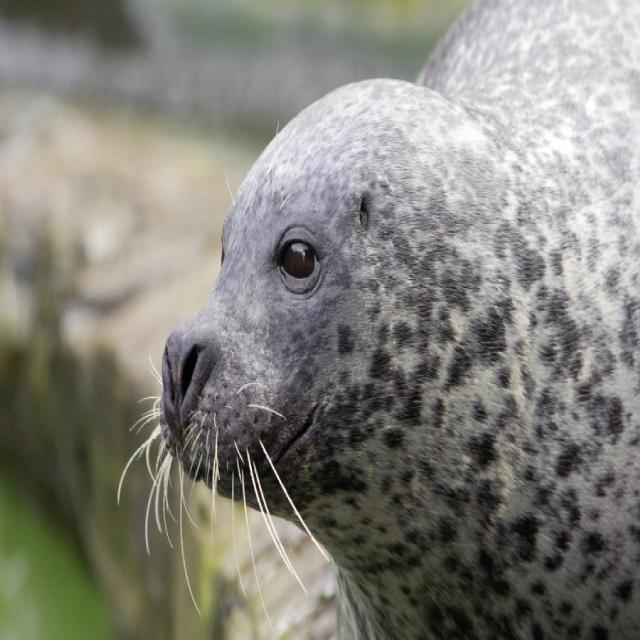WaterDog: (143, 34, 640, 640)
